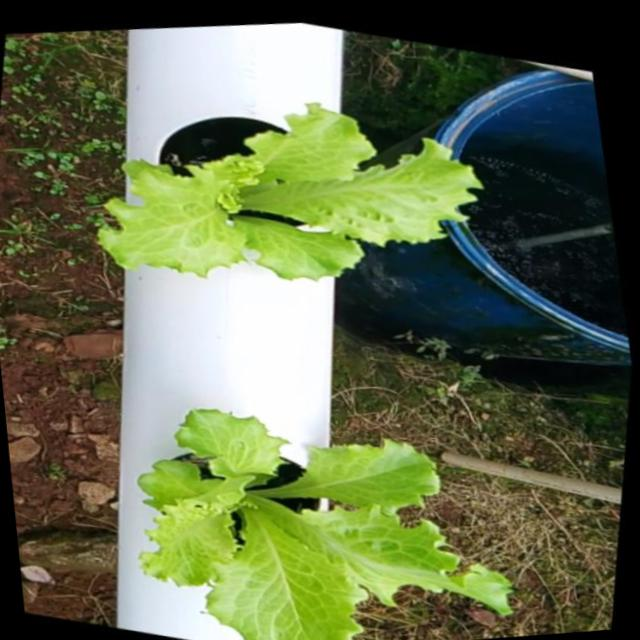Baby: (142, 394, 515, 640), (109, 84, 500, 264)
